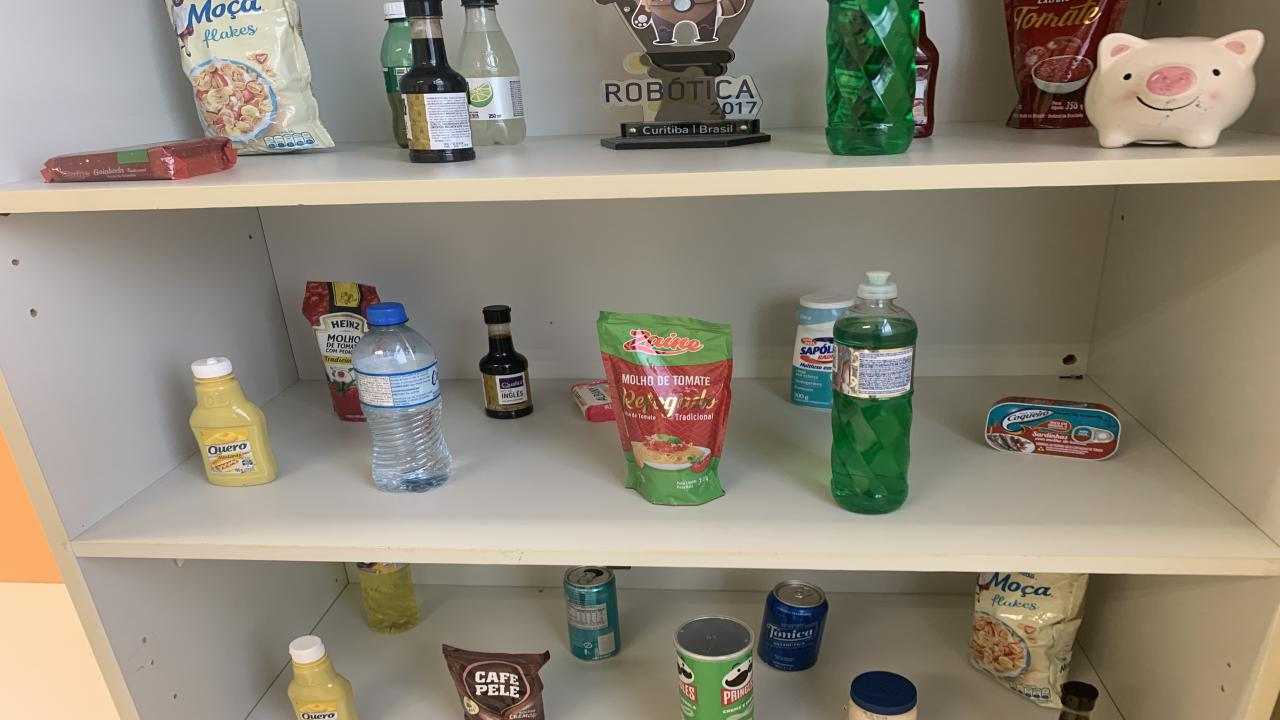Cleaner-Cleanup_Items: (790, 292, 855, 409)
Coffee-Pantry_Items: (442, 645, 550, 720)
Detergent-Cleanup_Items: (832, 272, 918, 514), (825, 0, 920, 156), (358, 562, 420, 634)
English_Sauce-Pantry_Items: (400, 0, 475, 163), (480, 306, 532, 418), (1060, 682, 1100, 720)
Flakes-Snacks: (168, 0, 332, 154), (970, 572, 1088, 709)
Guarana-Drinks: (380, 0, 412, 148)
Guava-Snacks: (42, 137, 238, 182)
Ketchup-Pantry_Items: (912, 11, 940, 137)
Mayonnaise-Pantry_Items: (848, 671, 918, 720)
Mustard-Pantry_Items: (190, 356, 278, 486), (288, 636, 358, 720)
Pig_Safe-Miscellaneous: (1085, 30, 1265, 148)
Pringles-Snacks: (675, 615, 755, 720)
Soap-Cleanup_Items: (570, 381, 615, 422)
Soda-Drinks: (458, 0, 525, 146)
Tea-Drinks: (565, 566, 620, 662)
Tomato_Sauce-Pantry_Items: (598, 311, 732, 504), (1002, 0, 1128, 129), (302, 281, 380, 422)
Tonic-Drinks: (758, 579, 828, 671)
Trophy-Miscellaneous: (598, 0, 770, 150)
Tuna_Can-Pantry_Items: (985, 398, 1120, 459)
Water_Bottle-Drinks: (352, 302, 450, 491)
